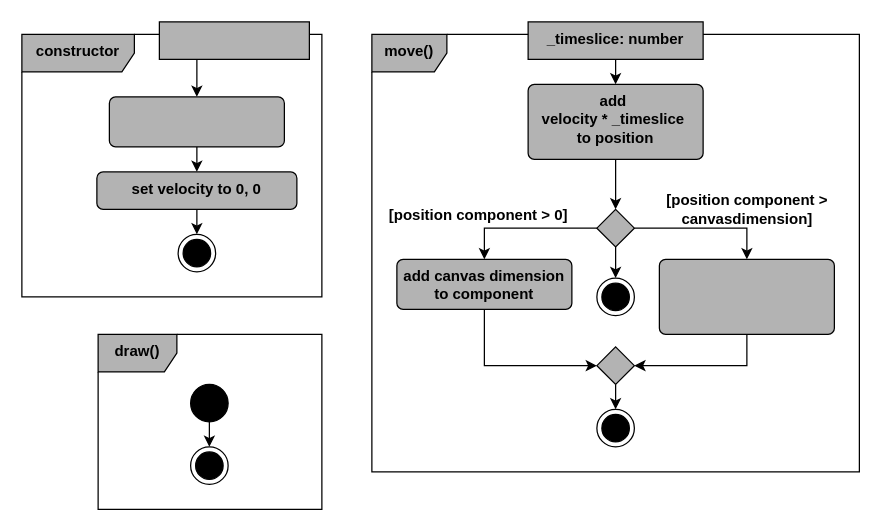
This 881x531 diagram has some shape labels left out. Here are the shapes that lost their labels. From the top down, the centre of each, then its label:
At (233,40): "_position?: Vector".
At (196,121): "set position to _position or 0, 0".
At (746,296): "subtract canvas dimension from component".
